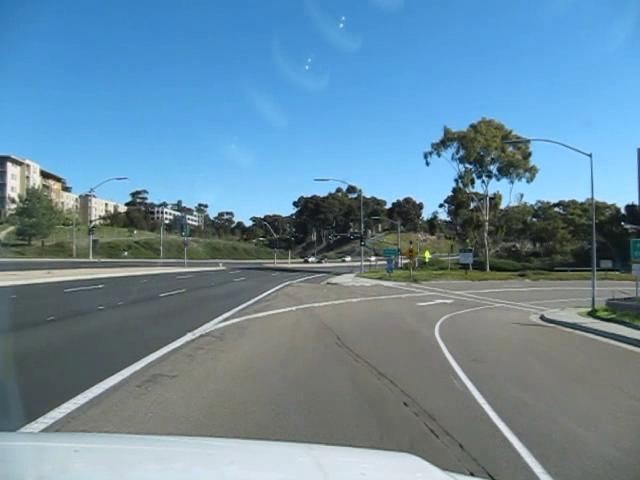signalAhead: (402, 245, 419, 262)
